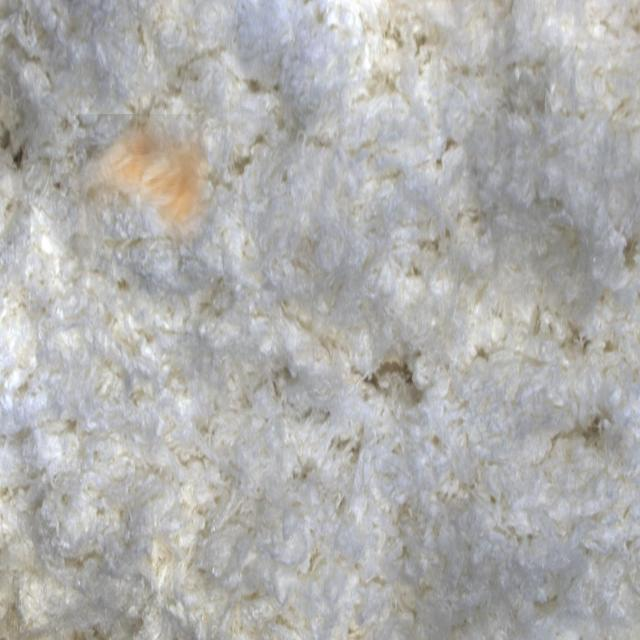dust: (76, 114, 208, 248)
